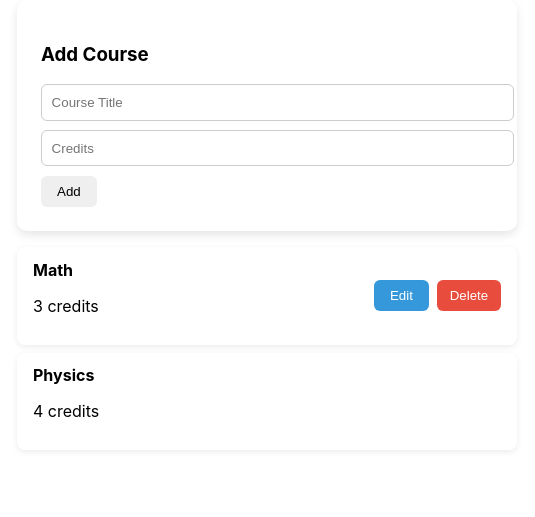
Test: CourseForm component › shows error message when submission fails
The image size is (535, 517).
Expected: the text "Math" is shown, [33,260,73,280]
In the field with placeholder "Course Title": (278, 102) [41,84,514,121], type "Math"
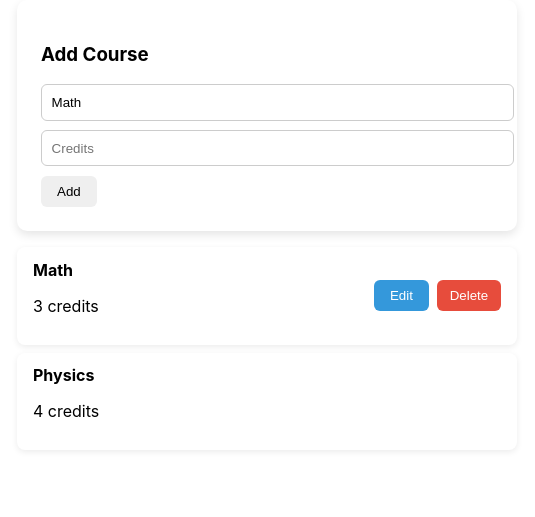
In the number field with placeholder "Credits": (278, 148) [41,130,514,166], type "3"
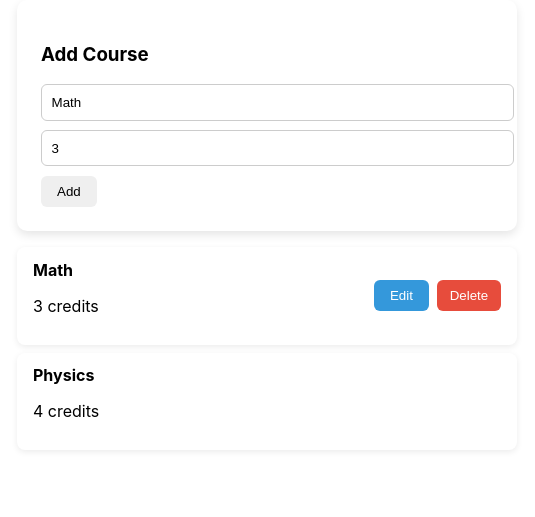
Click the button "Add": (69, 192) [41,176,97,207]
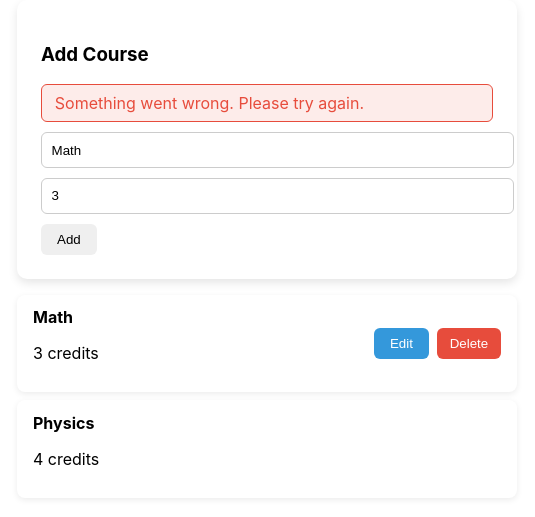
Result: the text "Something went wrong. Please try again." is shown at [41,84,493,122]
